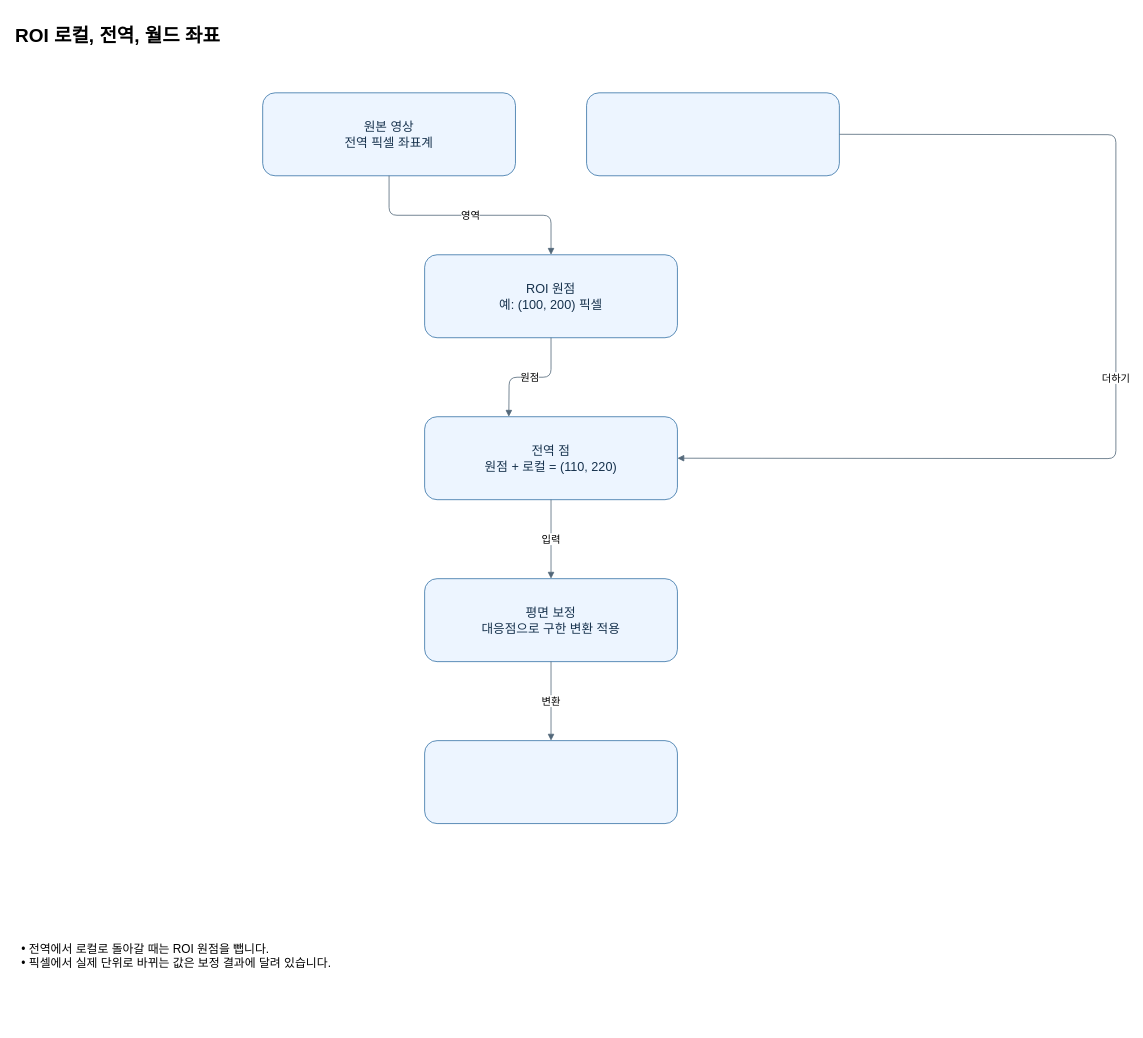
This 1143x1038 diagram has some shape labels left out. Here are the shapes that lost their labels. From the top down, the centre of each, then its label:
At point (712, 134): "ROI 로컬 점 예: (10, 20) 픽셀".
At point (550, 782): "월드 점 보정에서 정한 실제 단위".
